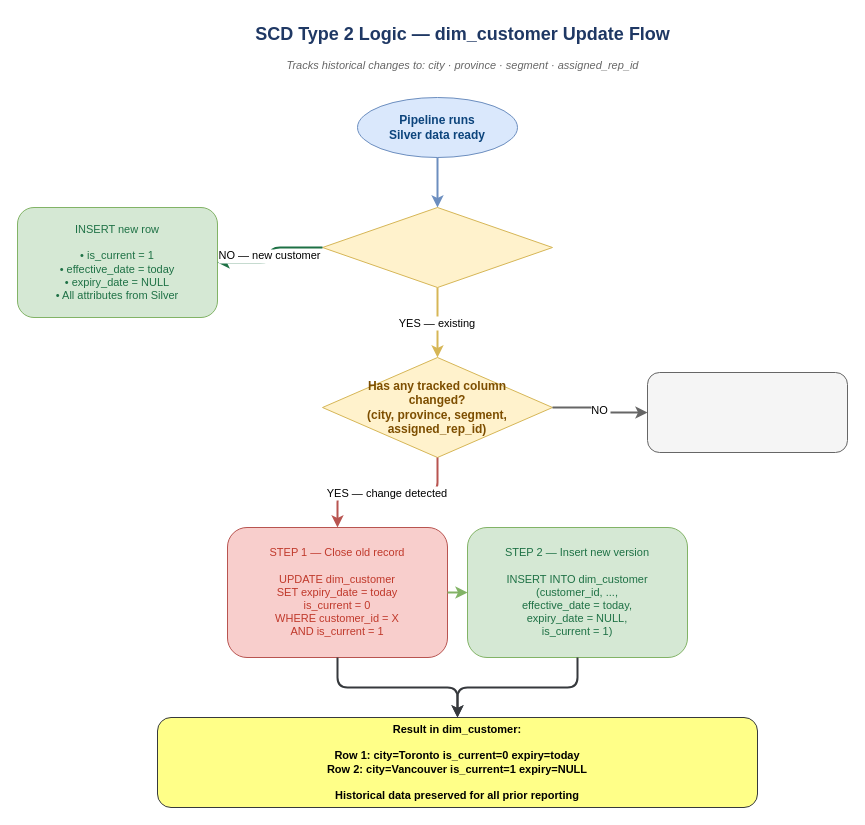
This 865x825 diagram has some shape labels left out. Here are the shapes that lost their labels. From the top down, the box of each, then its label:
(322, 206, 552, 288): Does customer_id exist in dim_customer?
(646, 372, 848, 452): No action needed Existing current record remains unchanged
